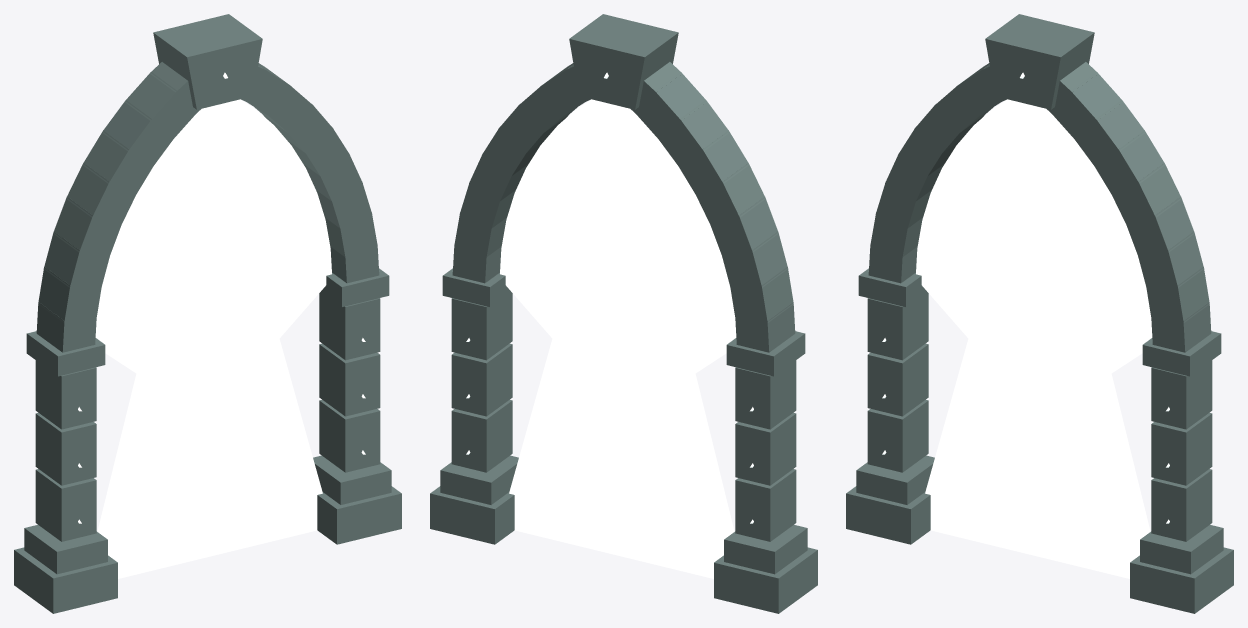
File: env_arch.glb
3 renders of one model, left to right at view 1: azimuth 30°, elevation 25°; view 2: azimuth 150°, elevation 25°; view 3: azimuth 330°, elevation 25°, orthographic.
Visible parts, largest first — view 1: Env_ArchGlowVeil, Env_ArchStonePillar, Env_ArchStoneRing, Env_ArchStoneKey; view 2: Env_ArchGlowVeil, Env_ArchStonePillar, Env_ArchStoneRing, Env_ArchStoneKey; view 3: Env_ArchGlowVeil, Env_ArchStonePillar, Env_ArchStoneRing, Env_ArchStoneKey.
Part boxes in pixels (x1,y1,x2,y2): Env_ArchGlowVeil: (95,99,331,578); Env_ArchStonePillar: (14,268,401,613); Env_ArchStoneRing: (36,62,379,352); Env_ArchStoneKey: (153,14,262,109); Env_ArchGlowVeil: (500,99,736,578); Env_ArchStonePillar: (430,268,817,613); Env_ArchStoneRing: (452,62,795,352); Env_ArchStoneKey: (569,14,678,109); Env_ArchGlowVeil: (916,99,1152,578); Env_ArchStonePillar: (846,268,1233,613); Env_ArchStoneRing: (868,62,1211,352); Env_ArchStoneKey: (985,14,1094,109).
Bounding box in the file's own units: 6.17 × 8.82 × 1.25.
